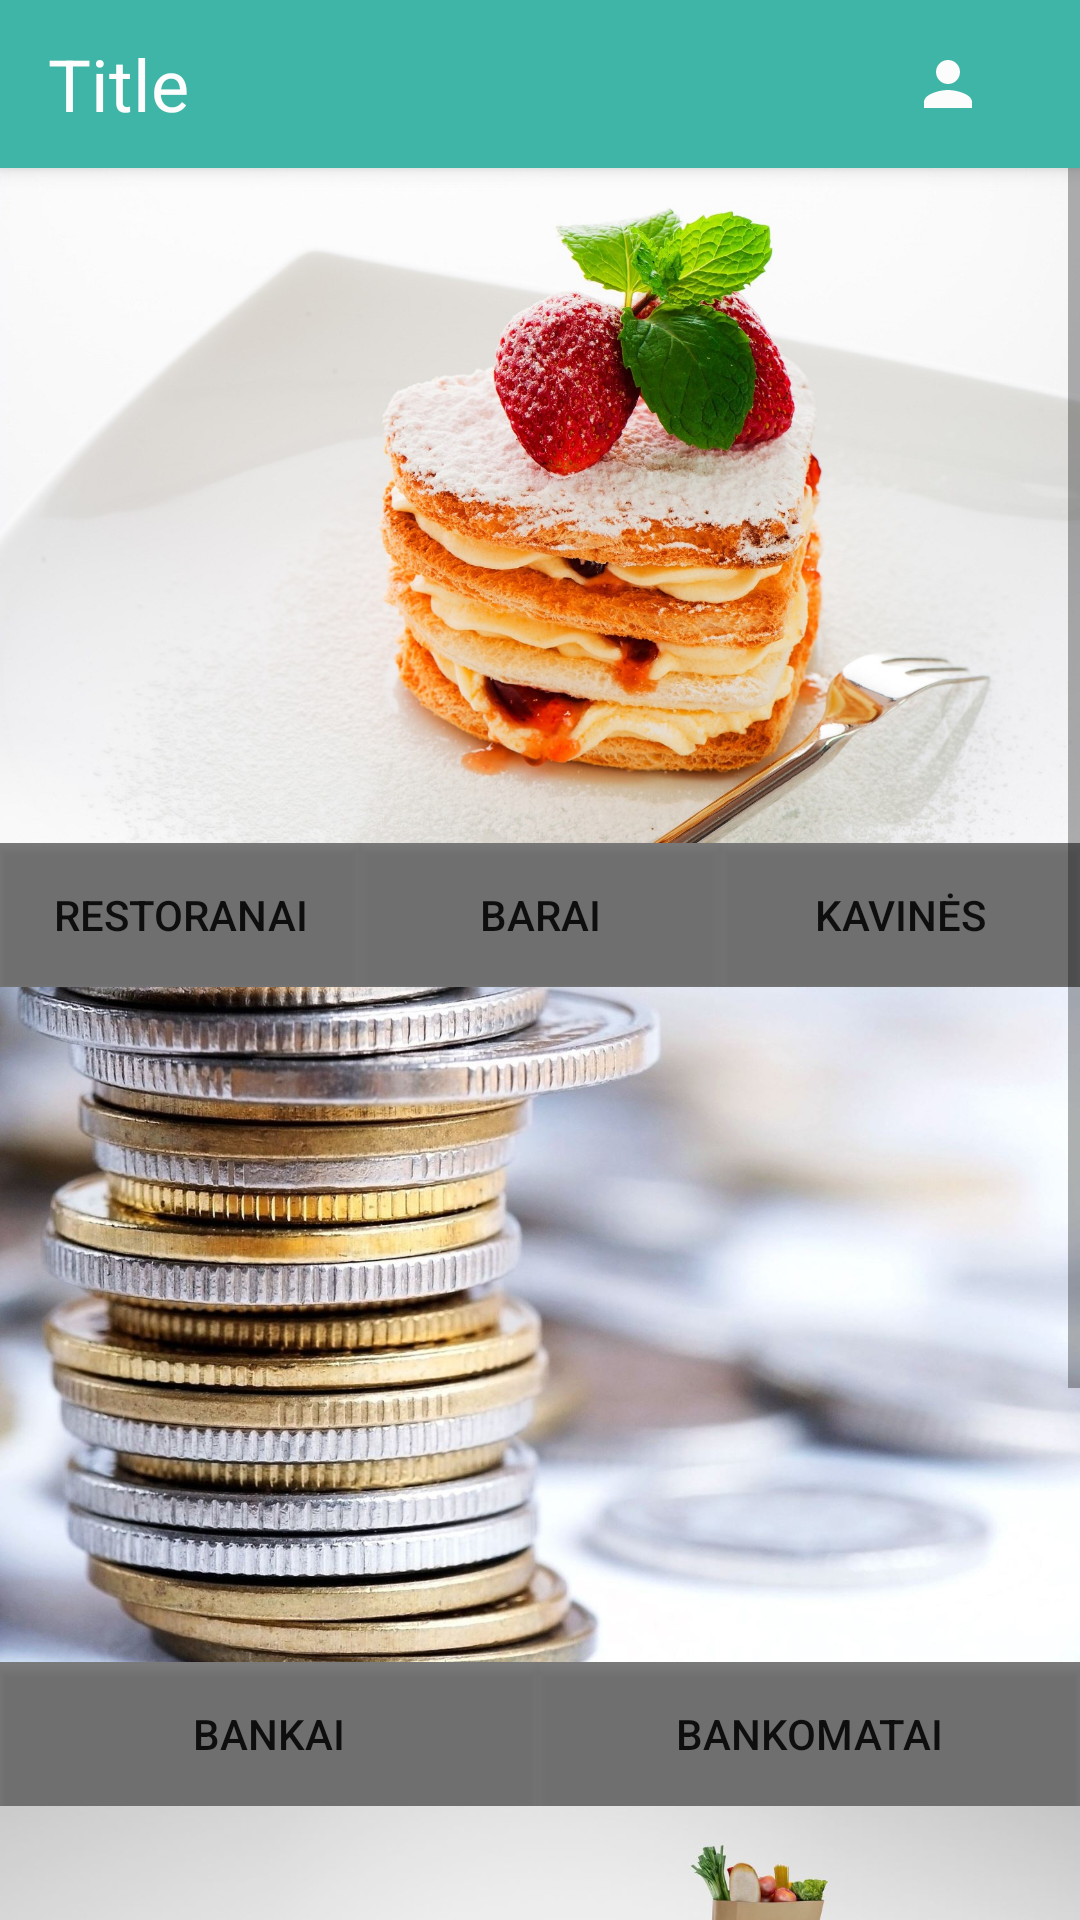

Locate icon controls on the screen. Image size 1080 x 1920, boxes as Rect(x1, y1, x2, y2).
person: Rect(924, 60, 972, 108)
